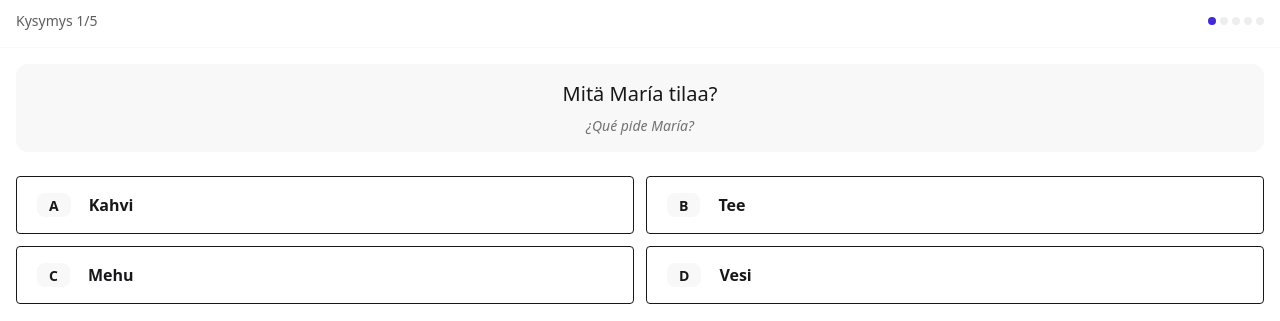
Scenario: StoryQuestion › disables buttons after answer is selected
The image size is (1280, 321).
Click the button "A Kahvi" at (54, 205), box [16, 176, 634, 234]
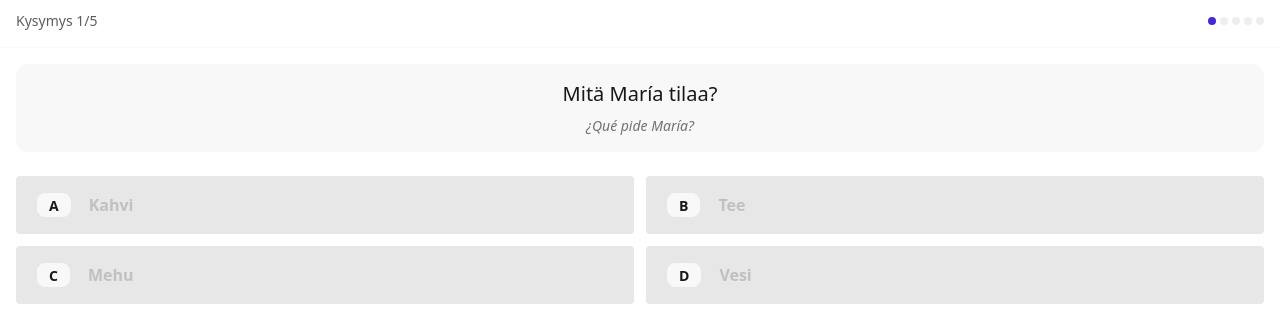
Expected: the button "A Kahvi" is disabled, [16, 176, 634, 234]
Expected: the button "B Tee" is disabled, [646, 176, 1264, 234]
Expected: the button "C Mehu" is disabled, [16, 246, 634, 304]
